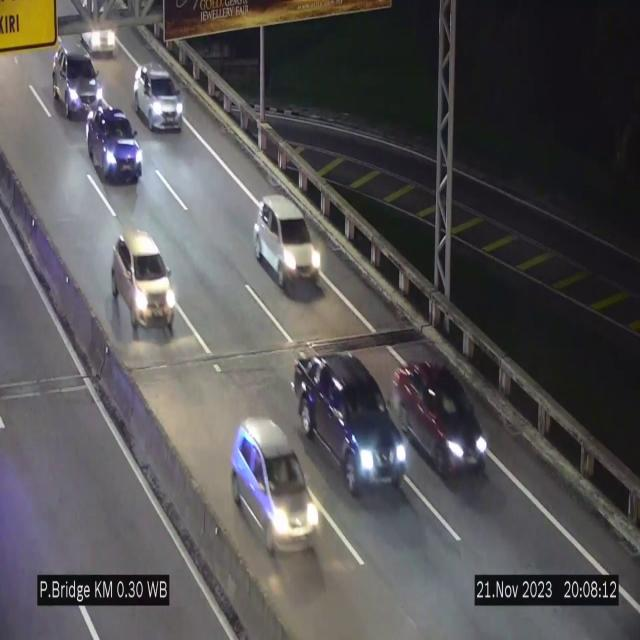Car: (298, 345, 404, 499), (232, 423, 324, 554), (398, 360, 484, 484), (110, 228, 178, 342), (253, 197, 322, 296), (87, 106, 142, 184), (52, 44, 100, 118), (134, 64, 184, 130)
